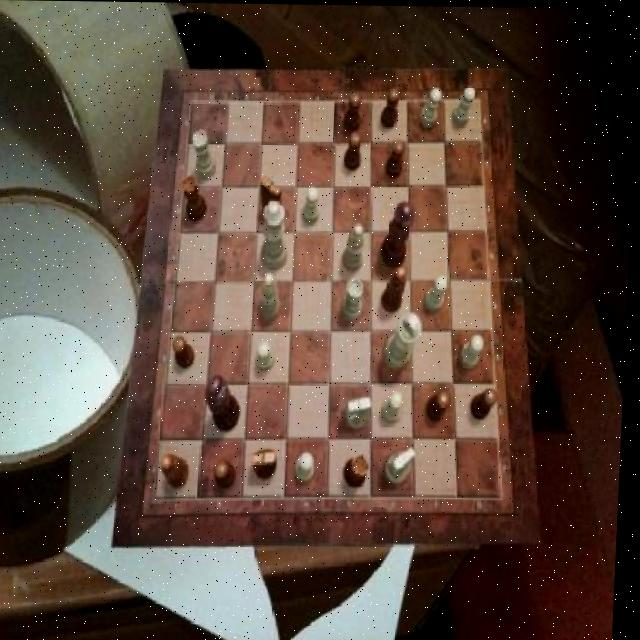bishop: (382, 266, 408, 312), (163, 453, 193, 488)
black-bishop: (208, 375, 245, 432)
black-king: (260, 177, 284, 225), (256, 448, 281, 479)
black-knight: (474, 387, 501, 420), (429, 390, 455, 423), (385, 138, 406, 177), (173, 336, 197, 370), (383, 88, 402, 128), (343, 92, 361, 132), (345, 132, 363, 171), (216, 460, 239, 488)
black-pawn: (382, 202, 418, 270)
black-queen: (182, 175, 208, 221), (346, 453, 372, 488)
black-rook: (261, 272, 283, 320), (344, 224, 366, 272)
white-bishop: (386, 311, 425, 369)
white-king: (389, 446, 420, 484), (348, 395, 374, 429)
white-knight: (451, 85, 476, 126), (419, 88, 442, 128), (426, 275, 451, 311), (461, 333, 486, 368), (385, 389, 407, 423), (303, 185, 321, 224), (297, 451, 318, 482), (259, 340, 277, 369)
white-pawn: (262, 200, 290, 269)
white-queen: (193, 130, 219, 180), (343, 278, 366, 321)
